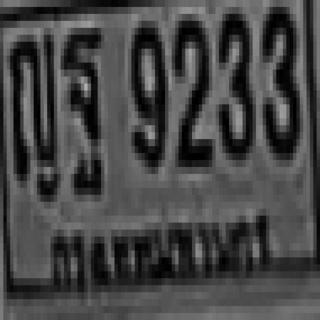A13: (8, 28, 56, 181)
A16: (60, 24, 101, 177)
N02: (173, 10, 210, 164)
N03: (260, 0, 296, 153), (215, 7, 252, 153)
N09: (128, 18, 165, 164)
P04: (41, 197, 277, 300)
